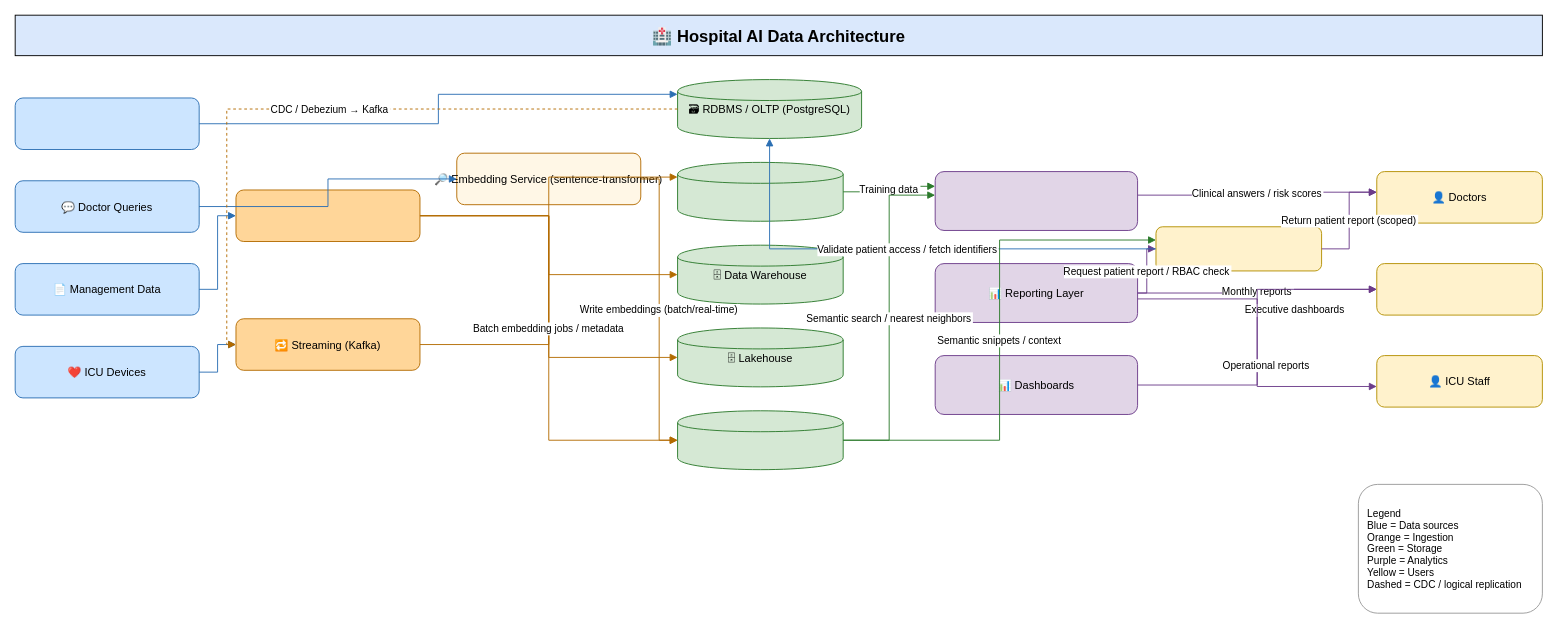
Image size: 1558x628. Some labels were removed from this diagram. The shapes that lost their labels are listed below. From the top down, each one's centre as x and y in pixels, then its label:
At point 106,123: "📄 Historical Records".
At point 760,191: "🗄 Data Lake".
At point 1036,200: "🧠 AI / Semantic Layer".
At point 327,215: "🛠 ETL (Batch)".
At point 1238,248: "🔐 Report API / Access Gateway".
At point 1459,289: "👤 Management".
At point 760,440: "🗃 Vector DB (pgvector / Pinecone)".
